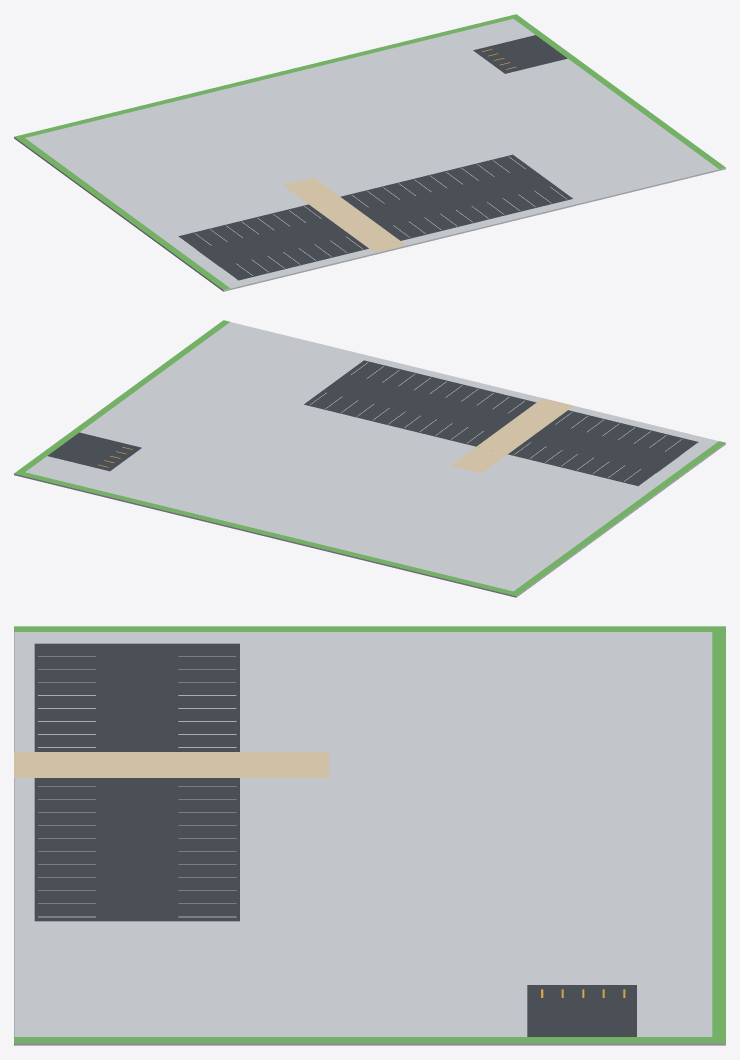
The model's file is CM_Plot_Pad_LuxuryCenter.fbx.
3 renders of one model, top to bottom at view 1: azimuth 30°, elevation 25°; view 2: azimuth 150°, elevation 25°; view 3: azimuth 270°, elevation 25°, orthographic. The views are drawn at different scales.
Parts seen in each view (by area): view 1: Pad; view 2: Pad; view 3: Pad.
Boxes of the visible parts, x1,y1,x2,y2 form: Pad: (14,14,725,291); Pad: (14,320,725,597); Pad: (14,626,725,1045).
Bounding box in the file's own units: 288 × 208 × 1.01.
Materials: 1 (1 with a texture image).
